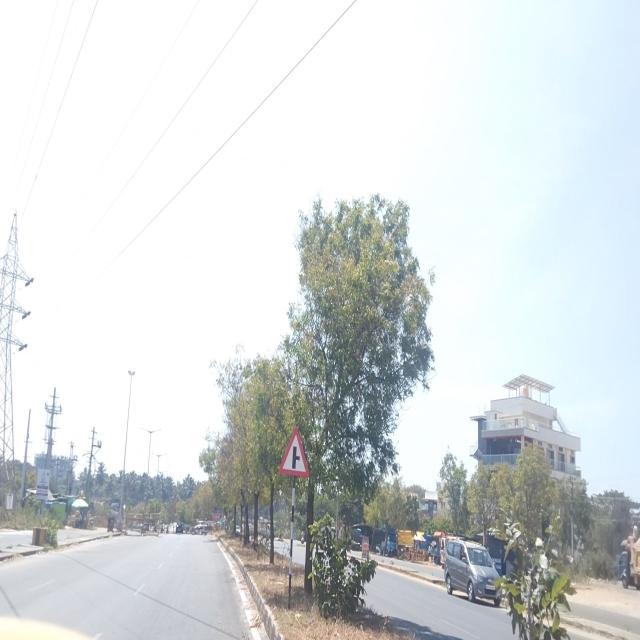bien_cam: (278, 427, 310, 479)
